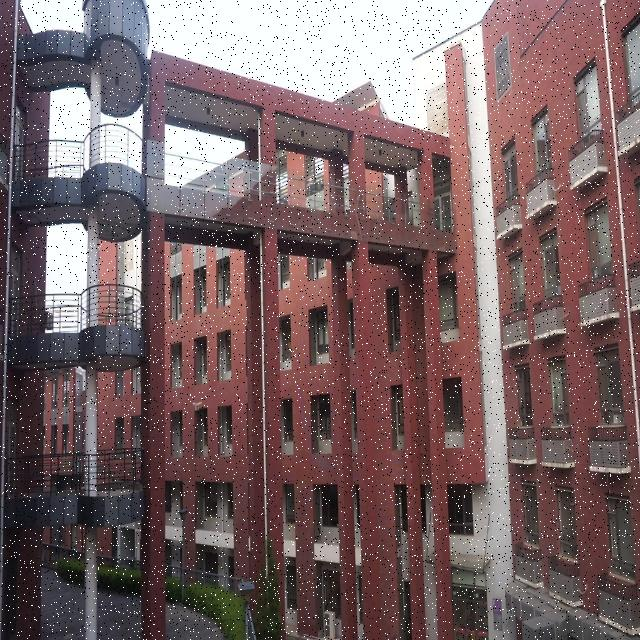UAV: (192, 402, 202, 411)
